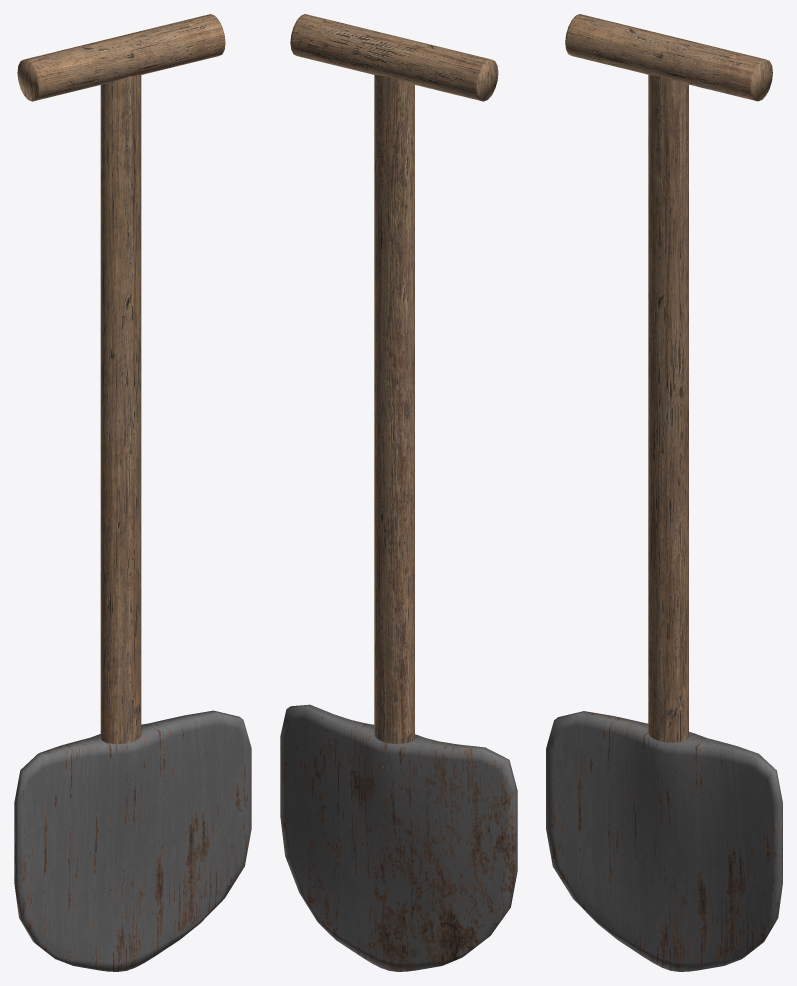
File: Shovel.fbx
3 views of the same model, side by side, from view 1: azimuth 30°, elevation 25°; view 2: azimuth 150°, elevation 25°; view 3: azimuth 330°, elevation 25° (orthographic).
Visible parts, largest first — view 1: Shovel; view 2: Shovel; view 3: Shovel.
Part boxes in pixels (box(x1,y1,x2,y2)): Shovel: box(14, 14, 251, 971); Shovel: box(280, 14, 517, 971); Shovel: box(546, 14, 782, 971).
Size of the model in its own units: 4 by 25.05 by 95.48.
